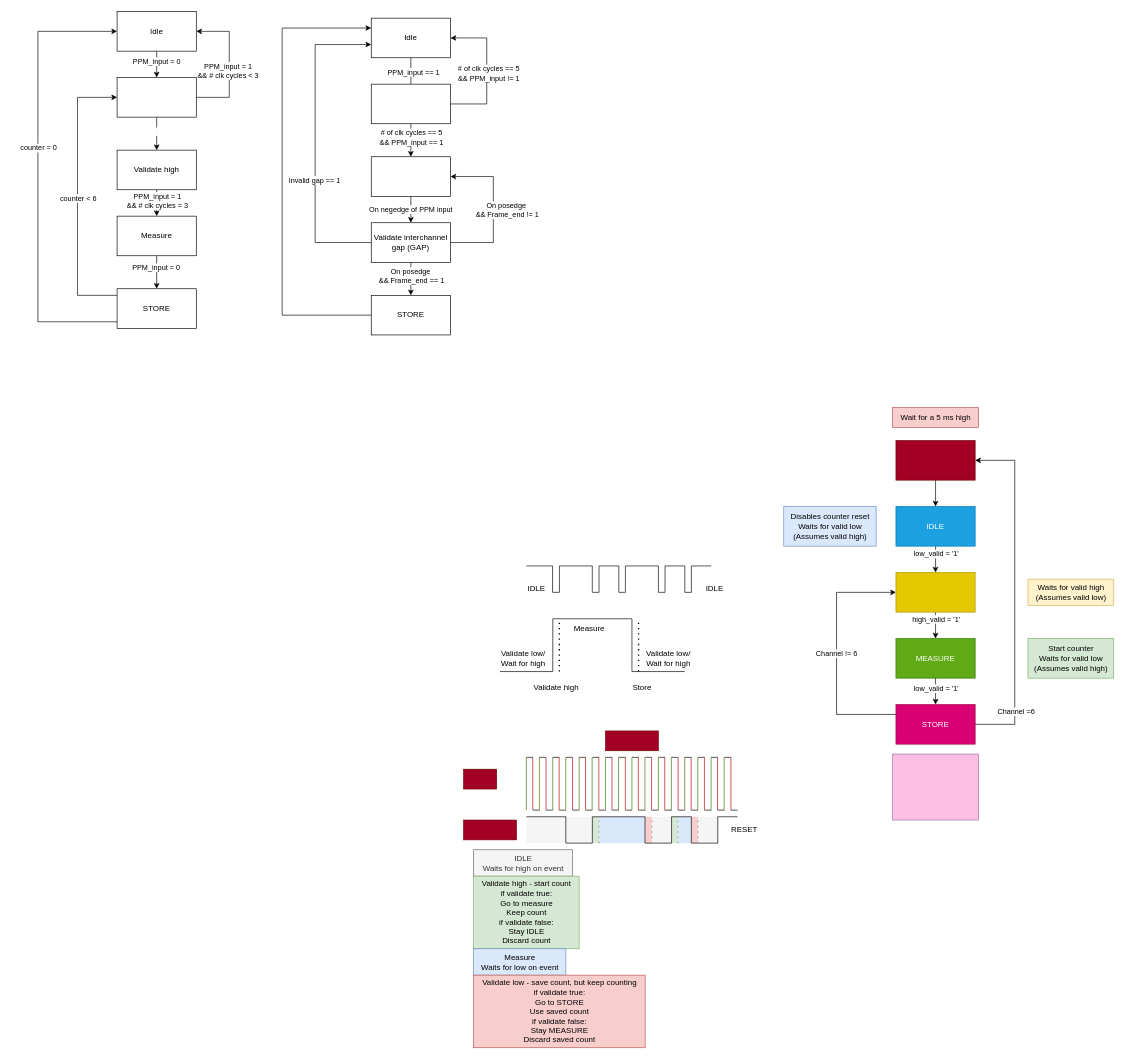
This 1125x1059 diagram has some shape labels left out. Each missing label, with the centre of its shape:
"Channel recorded Channel counter ++ If Channel = 6: Assert CLR Send DONE signal" belongs at (x=935, y=786).
"CLK" belongs at (x=480, y=779).
"Counting 1s" belongs at (x=410, y=103).
"IDLE_DETECT" belongs at (x=935, y=460).
"INTERCHANNEL" belongs at (x=935, y=592).
"Measure - Start counter - Measures width of pulse" belongs at (x=410, y=176).
"PPM_Input" belongs at (x=489, y=829).
"Validate low Wait for high" belongs at (x=156, y=97).
"Validation" belongs at (x=631, y=740).
